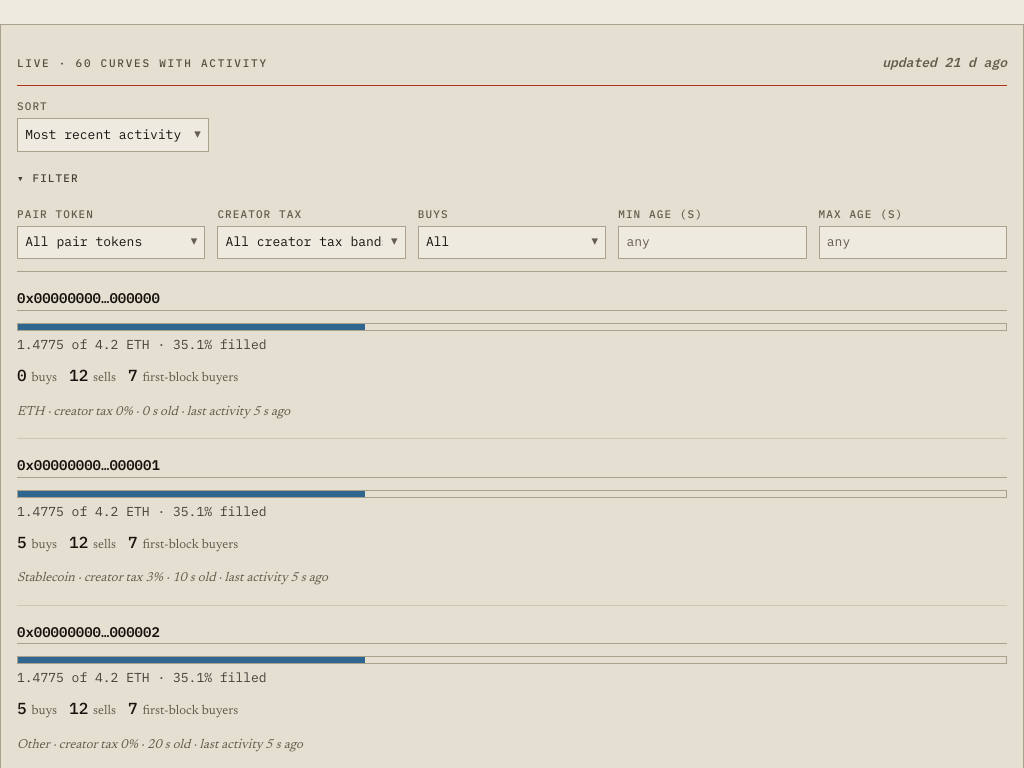
the live board's filters › counts active filters in the disclosure's own summary
Expected: the heading "Filter" is shown, [32,171,79,185]
Select "ETH" in the dropdown labelled "Pair token" at (104,242), box [25,227,183,258]
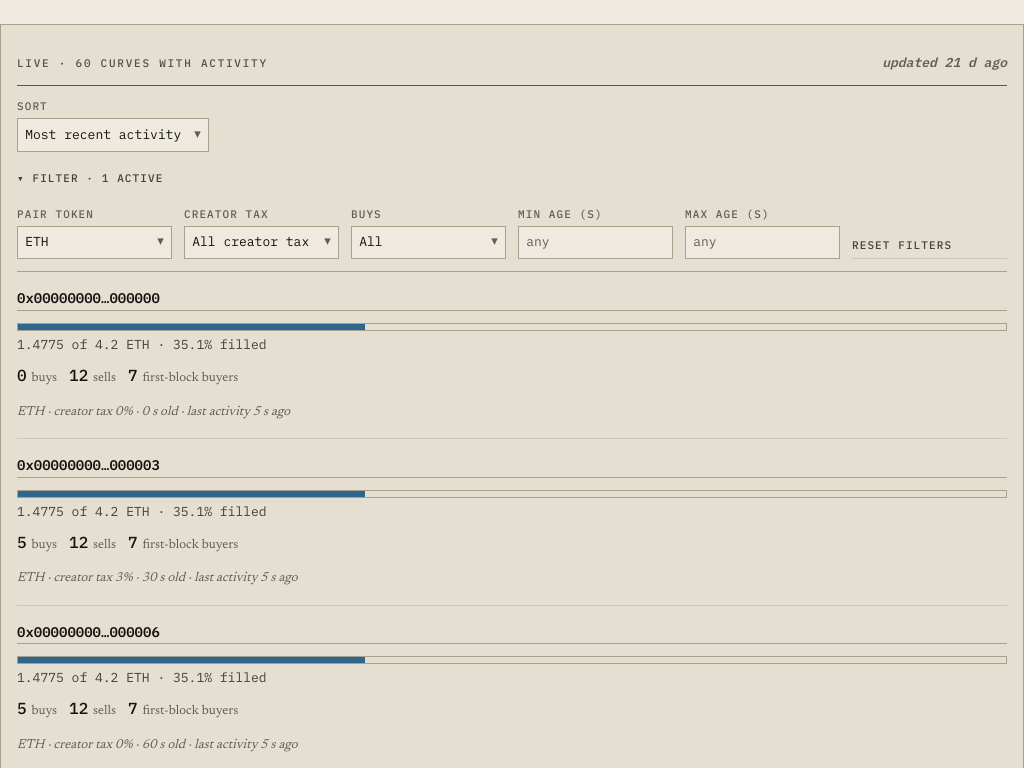
Expected: the heading "Filter · 1 active" is shown, [32,171,163,185]
Select "No buys" in the dropdown labelled "Buys" at (421,242), box [359,227,483,258]
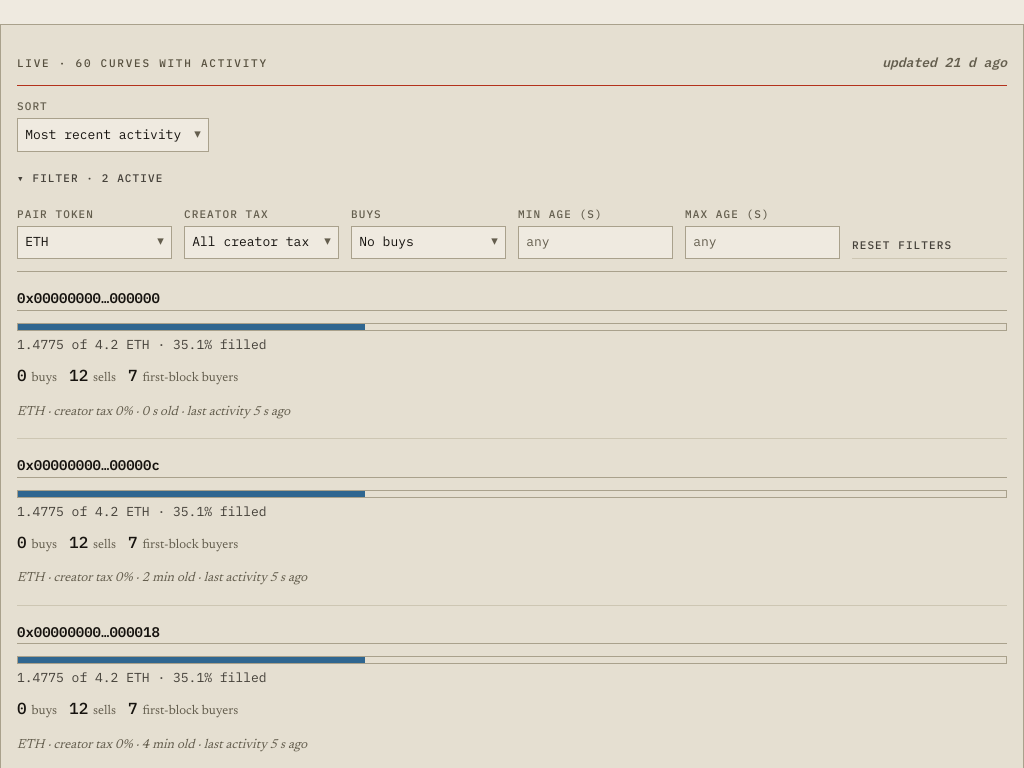
Expected: the heading "Filter · 2 active" is shown, [32,171,163,185]
